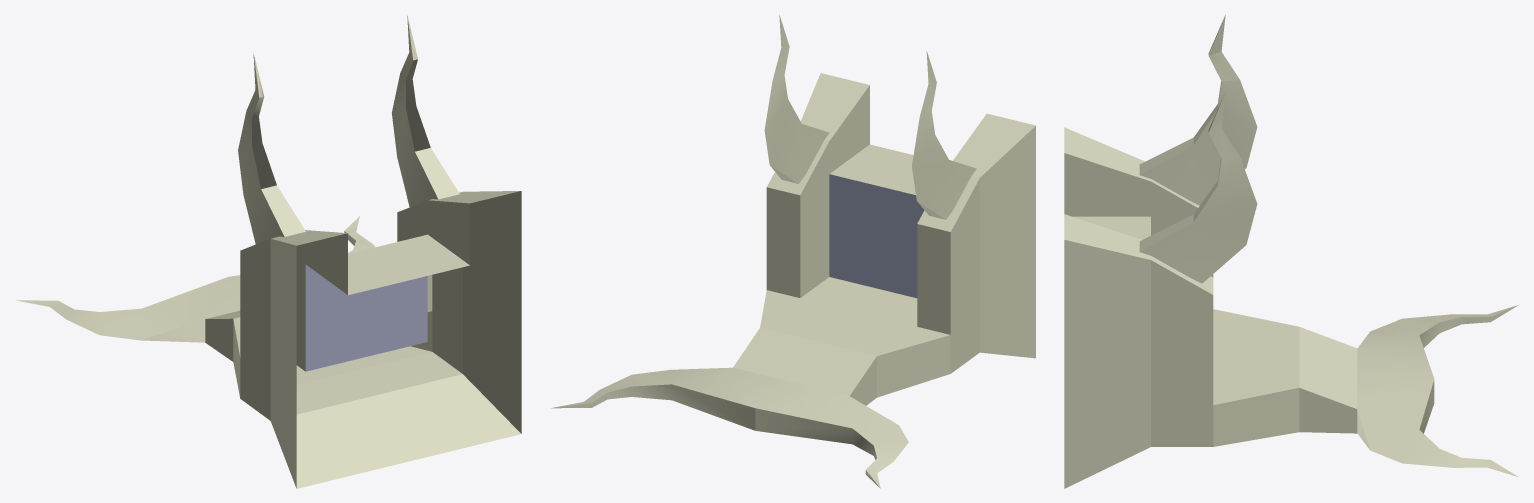
3 renders of one model, left to right at view 1: azimuth 30°, elevation 25°; view 2: azimuth 150°, elevation 25°; view 3: azimuth 270°, elevation 25°, orthographic. The views are drawn at different scales.
Parts seen in each view (by area): view 1: Object55; view 2: Object55; view 3: Object55.
Boxes of the visible parts, x1,y1,x2,y2 form: Object55: [16, 15, 521, 488]; Object55: [551, 15, 1035, 488]; Object55: [1064, 15, 1518, 488].
Size of the model in its own units: 19443 by 19955 by 21641.
